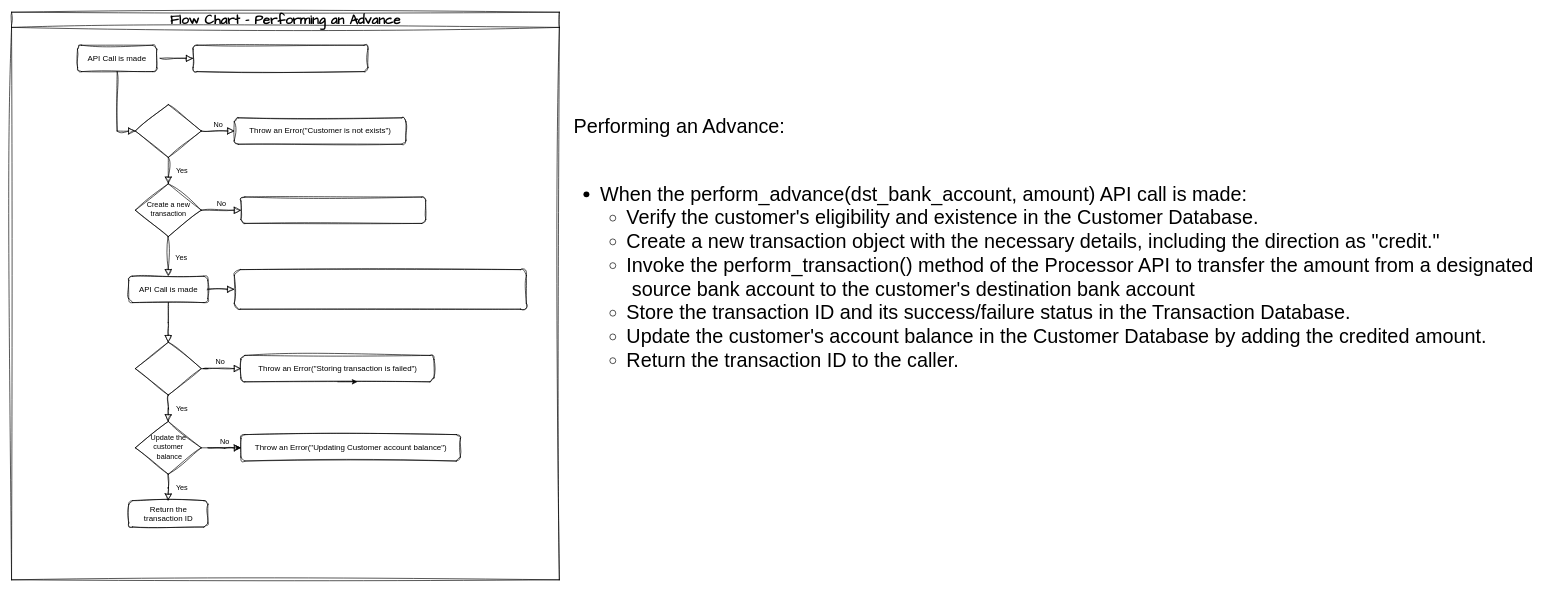
Some shapes in this 1561 by 591 pixel diagram are drawn without their labels. The centre of each missing label's shape, as x and y in pixels:
perform_advance(dst_bank_account, amount): pixel 280 58
perform_transaction(src_bank_account, dst_bank_account, amount, direction)(): pixel 380 289
Store the transaction ID: pixel 168 368
Throw an Error("Creating transaction is failed"): pixel 333 209
Verify the customer: pixel 168 130
